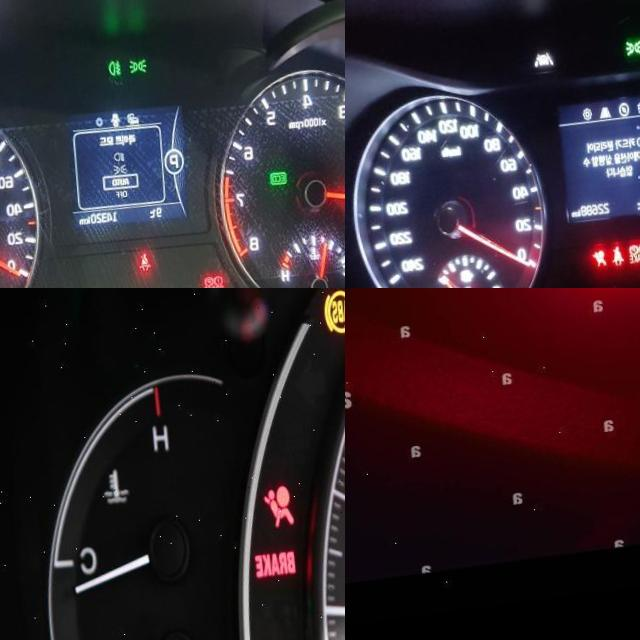FrontFogLight: (105, 65, 119, 84)
LaneCenteringOff: (532, 56, 554, 74)
SideLamp: (125, 64, 145, 82), (622, 46, 640, 65)
